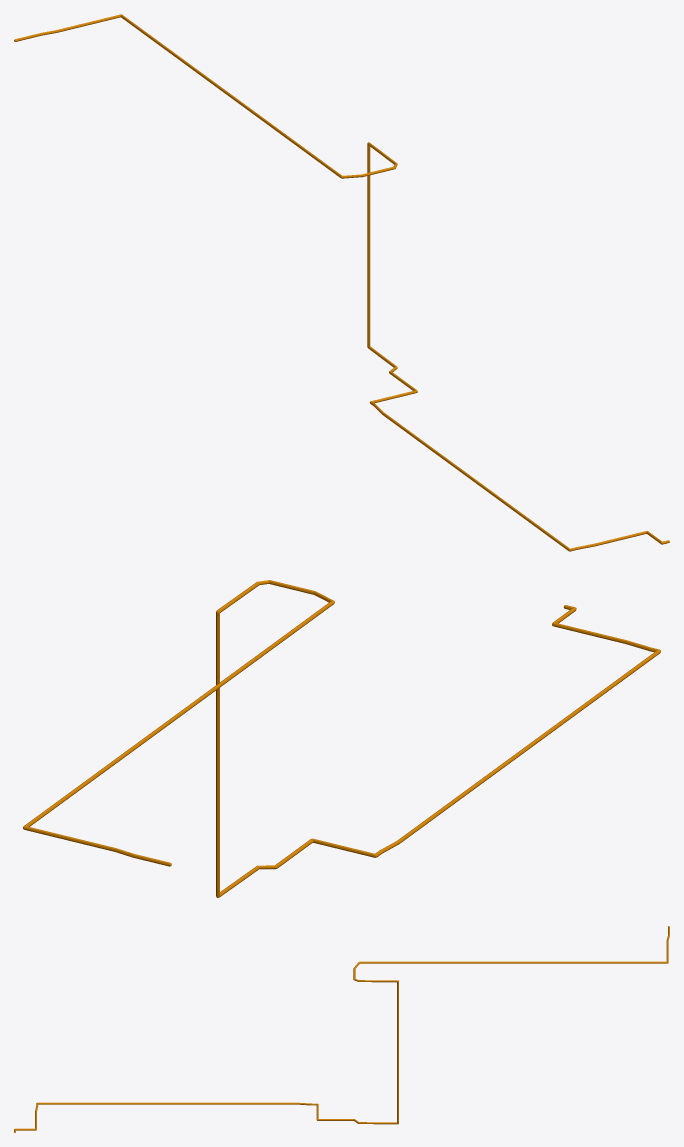
3 renders of one model, top to bottom at view 1: azimuth 30°, elevation 25°; view 2: azimuth 150°, elevation 25°; view 3: azimuth 270°, elevation 25°, orthographic. The views are drawn at different scales.
Bounding box in the file's own units: 1447 × 1520 × 6281.
